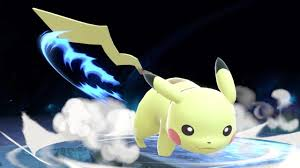pikachu: (32, 1, 244, 155)
